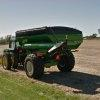Tractor: (5, 20, 86, 77)
